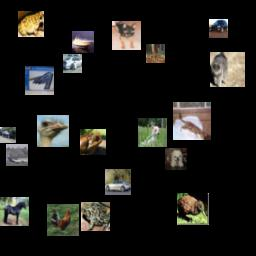airplane: (25, 66, 54, 95), (6, 144, 28, 166)
automobile: (105, 169, 131, 195), (209, 19, 228, 38), (63, 54, 82, 73), (0, 127, 16, 143)
bird: (177, 193, 209, 225), (47, 204, 79, 236), (37, 115, 69, 147)
cat: (173, 102, 211, 140), (210, 52, 245, 87)
deer: (146, 44, 165, 63)
dog: (112, 21, 141, 50), (138, 118, 167, 147), (165, 148, 187, 170)
frog: (81, 202, 110, 231), (80, 129, 106, 155), (18, 11, 44, 37)
ship: (72, 31, 94, 53)
